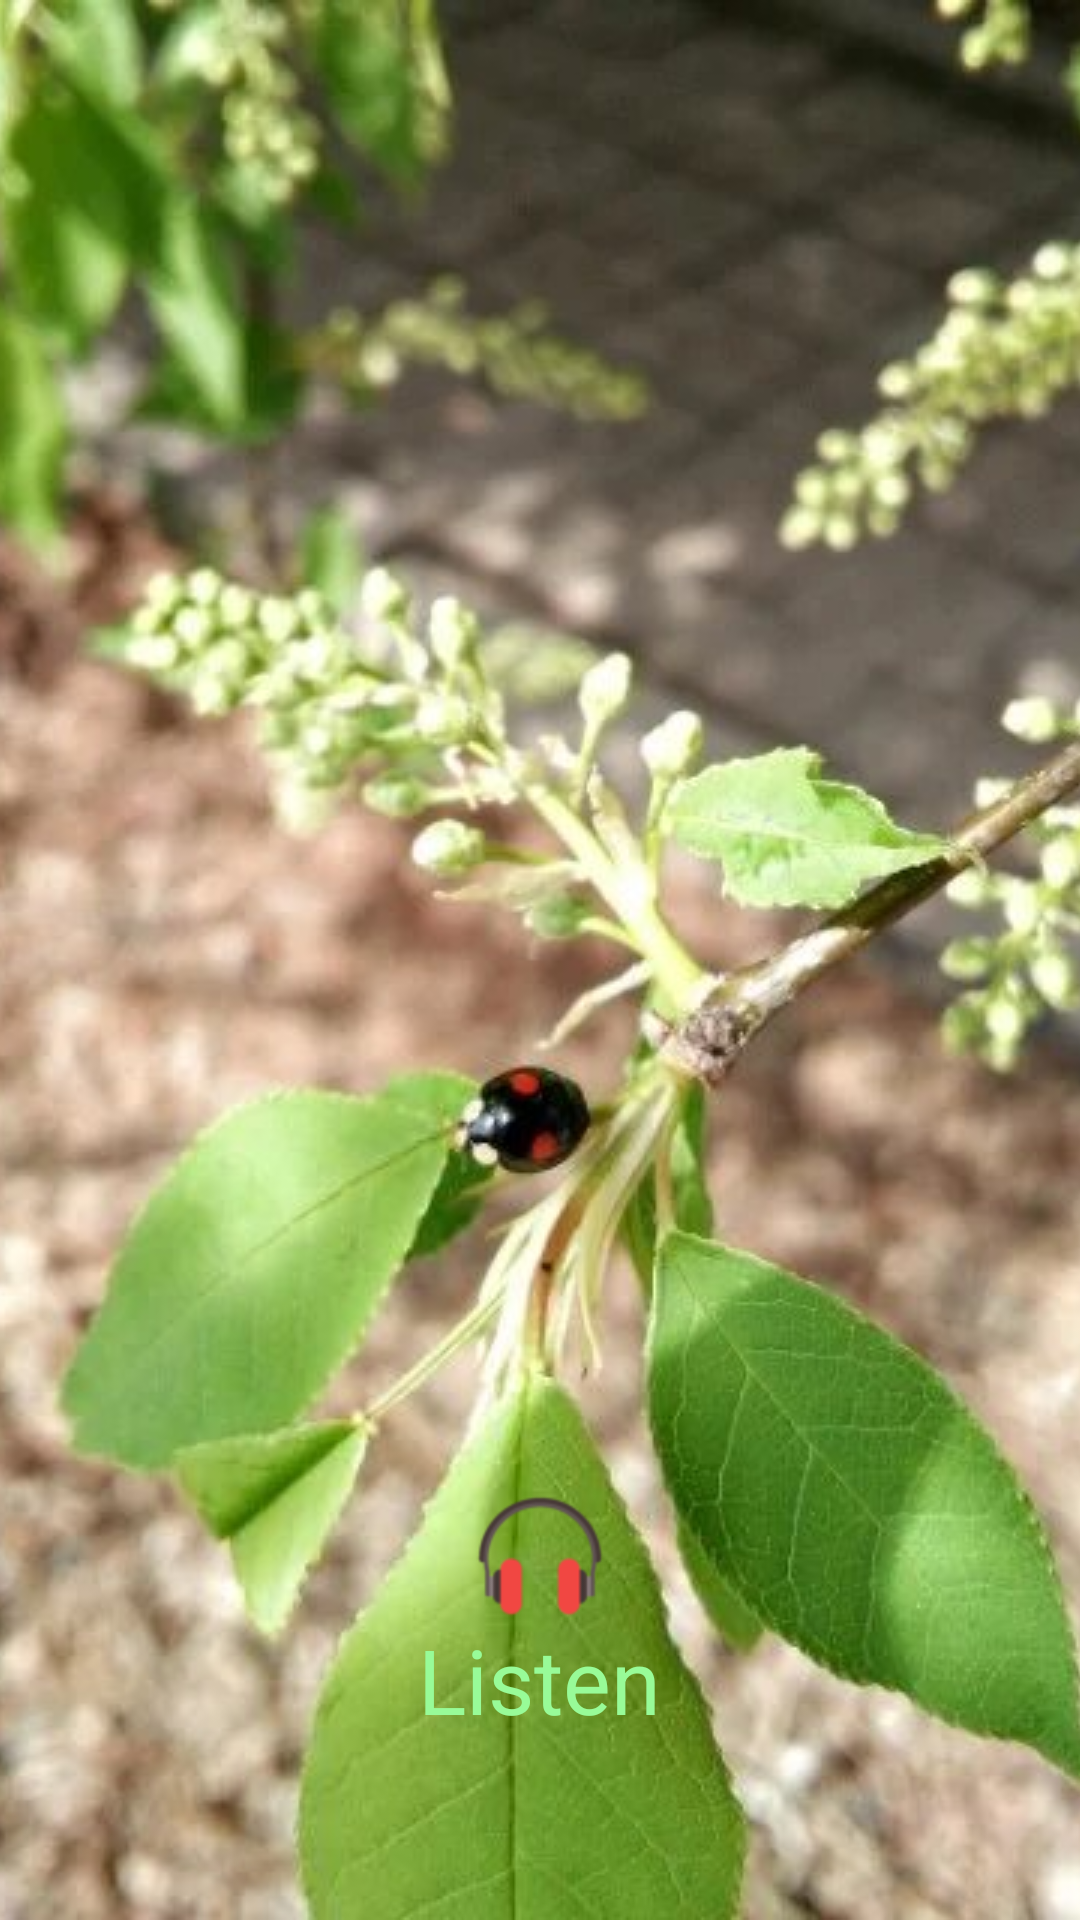

Icons on this 1080×1920 Android screen, each with its box as detection(x1, y1, x2, y2):
music player: detection(473, 1492, 607, 1620)
